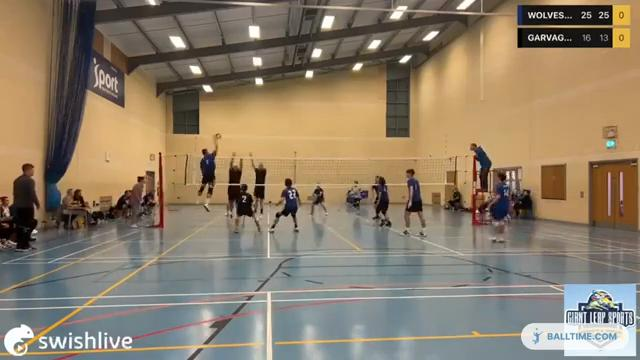Attack: (192, 131, 218, 211)
Block: (248, 149, 271, 217), (227, 147, 245, 221)
Player: (269, 178, 299, 232), (488, 172, 510, 242), (403, 169, 425, 236), (234, 184, 260, 232), (375, 176, 391, 226), (310, 183, 327, 215), (349, 181, 361, 209), (371, 175, 379, 206)
ball: (211, 130, 227, 140)
